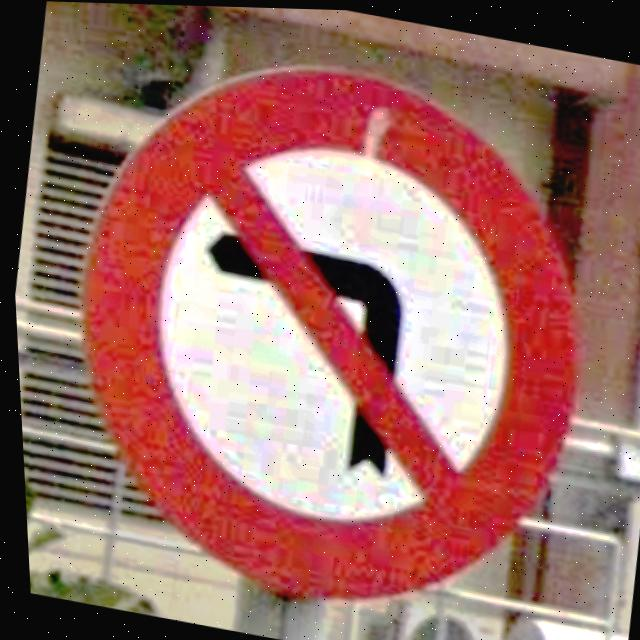noturnleft: (77, 66, 583, 603)
